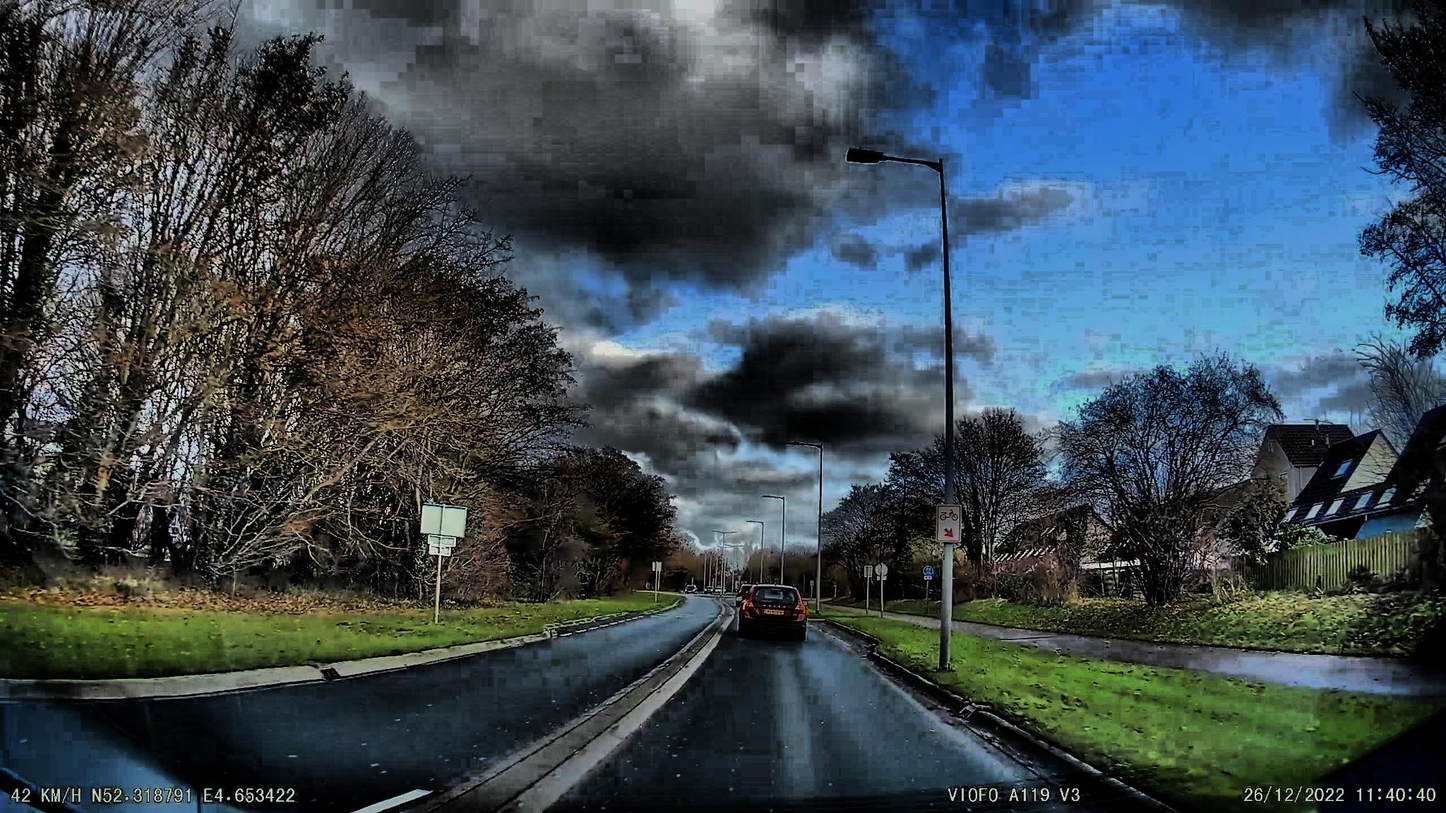Roads: (0, 601, 1191, 813)
